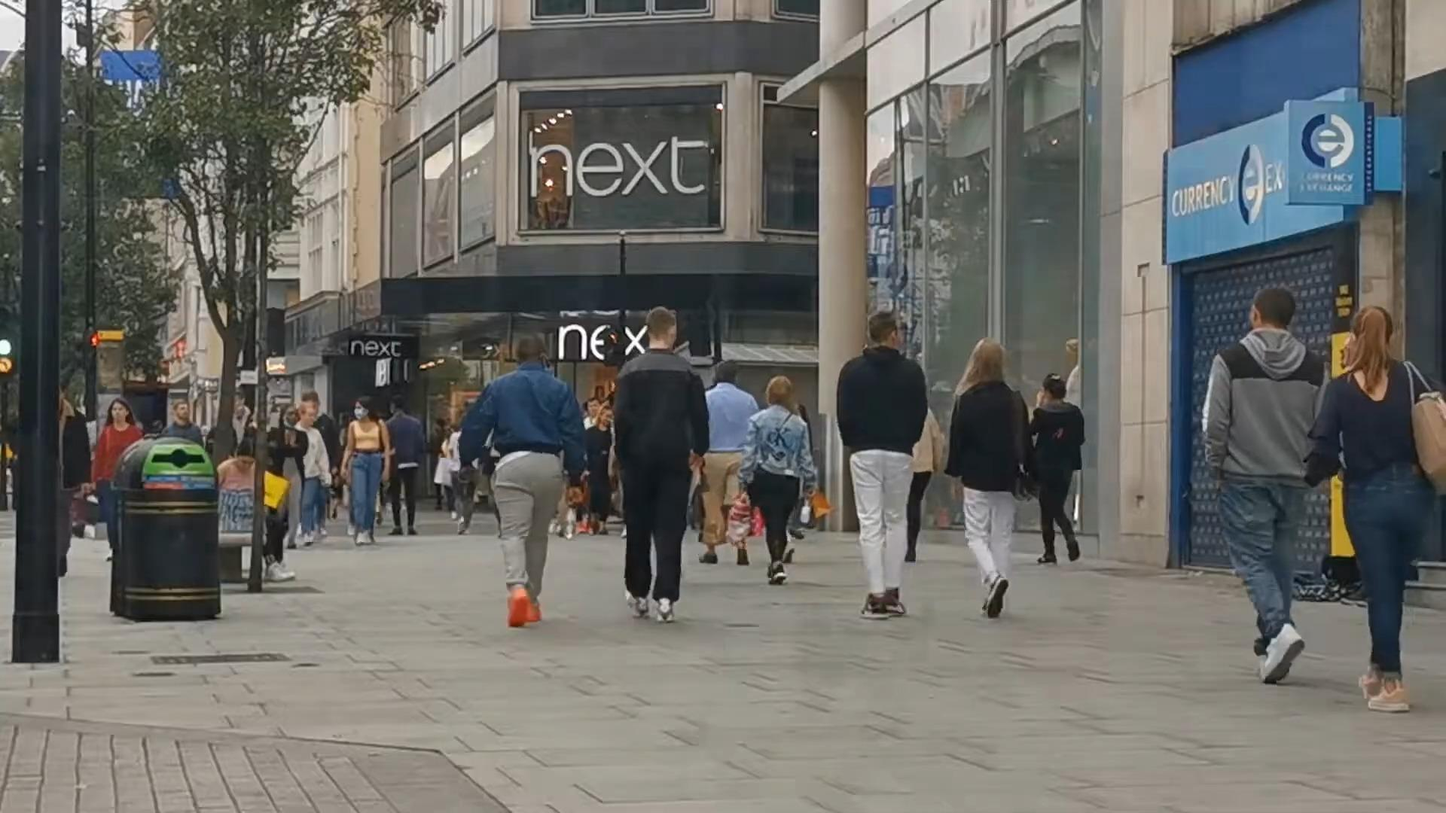no-helmet: (1350, 305, 1393, 368), (1249, 284, 1296, 331), (967, 336, 1006, 383), (516, 334, 552, 374), (646, 306, 677, 351), (868, 310, 899, 351), (766, 375, 793, 407), (1041, 372, 1067, 404), (107, 398, 134, 425), (236, 436, 255, 471), (713, 359, 739, 384), (354, 395, 378, 421), (593, 400, 613, 428), (297, 402, 316, 426), (584, 397, 602, 417), (173, 401, 190, 422)
